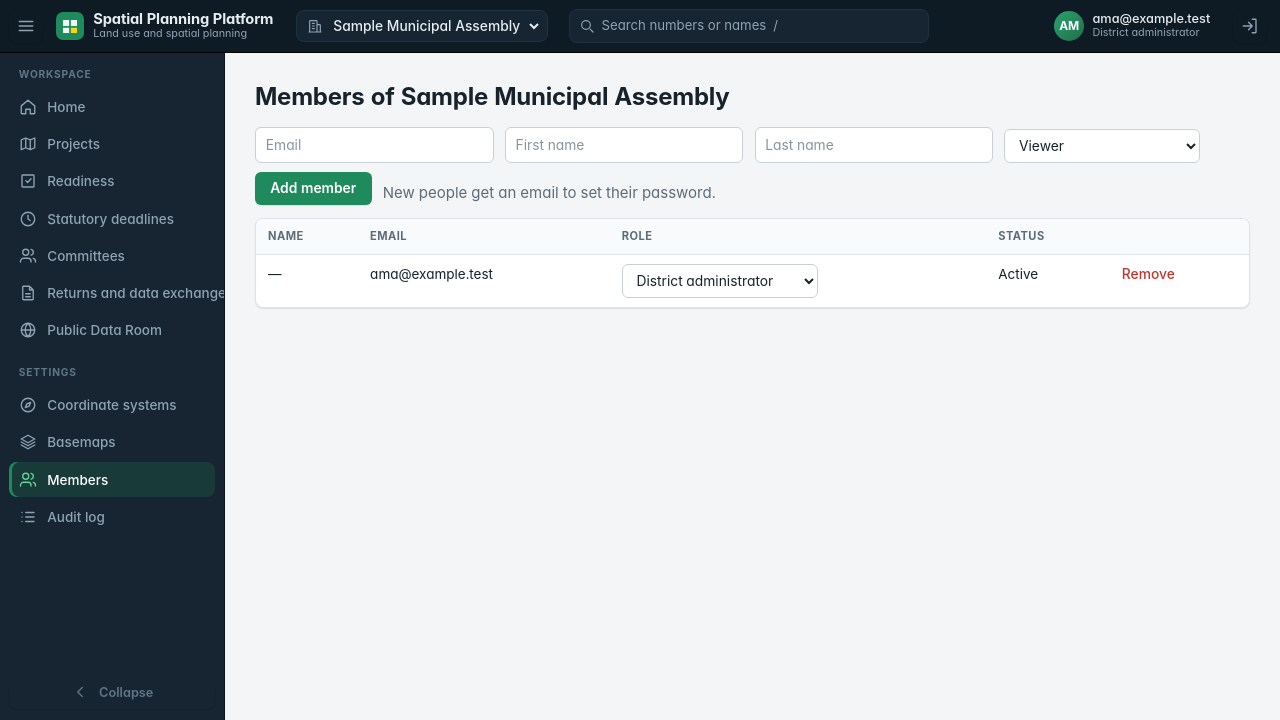
Test: members page › keeps the input and shows the error when adding fails
In the field labelled "Email": [374, 145] box [255,127,494,163], type "ama@example.test"
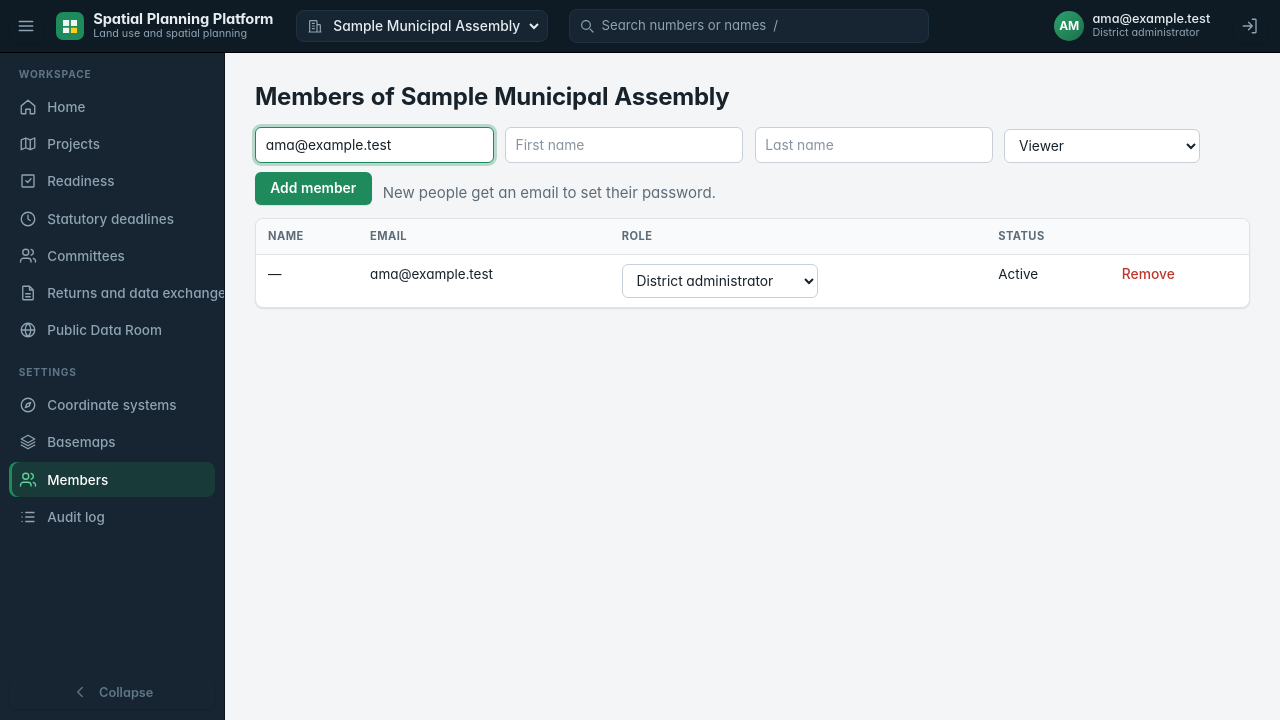
Click the button "Add member": [313, 188] box [255,172,372,205]
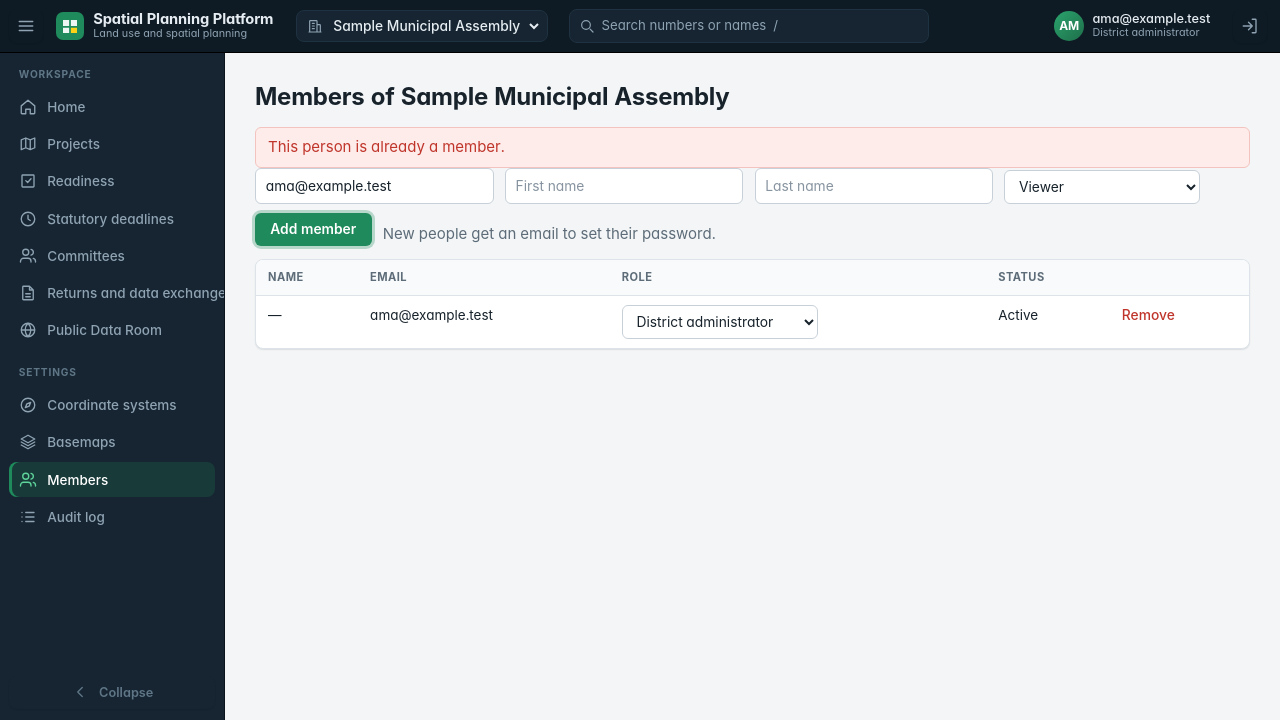
Now the message reads "This person is already a member.", box [268,137,505,156]
